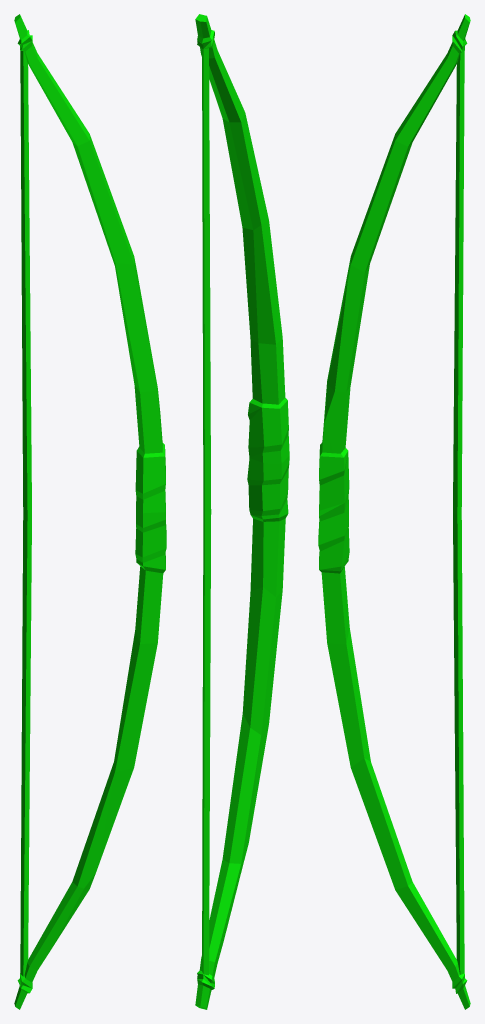
File: SM_Bow_Short_Fantasy.fbx
3 renders of one model, left to right at view 1: azimuth 90°, elevation 25°; view 2: azimuth 150°, elevation 25°; view 3: azimuth 270°, elevation 25°, orthographic.
Parts seen in each view (by area): view 1: bow-short-fantasy; view 2: bow-short-fantasy; view 3: bow-short-fantasy.
Boxes of the visible parts, x1,y1,x2,y2 form: bow-short-fantasy: [14, 14, 166, 1009]; bow-short-fantasy: [195, 14, 289, 1009]; bow-short-fantasy: [318, 14, 470, 1009].
Bounding box in the file's own units: 0.043 × 1.22 × 0.1698.
